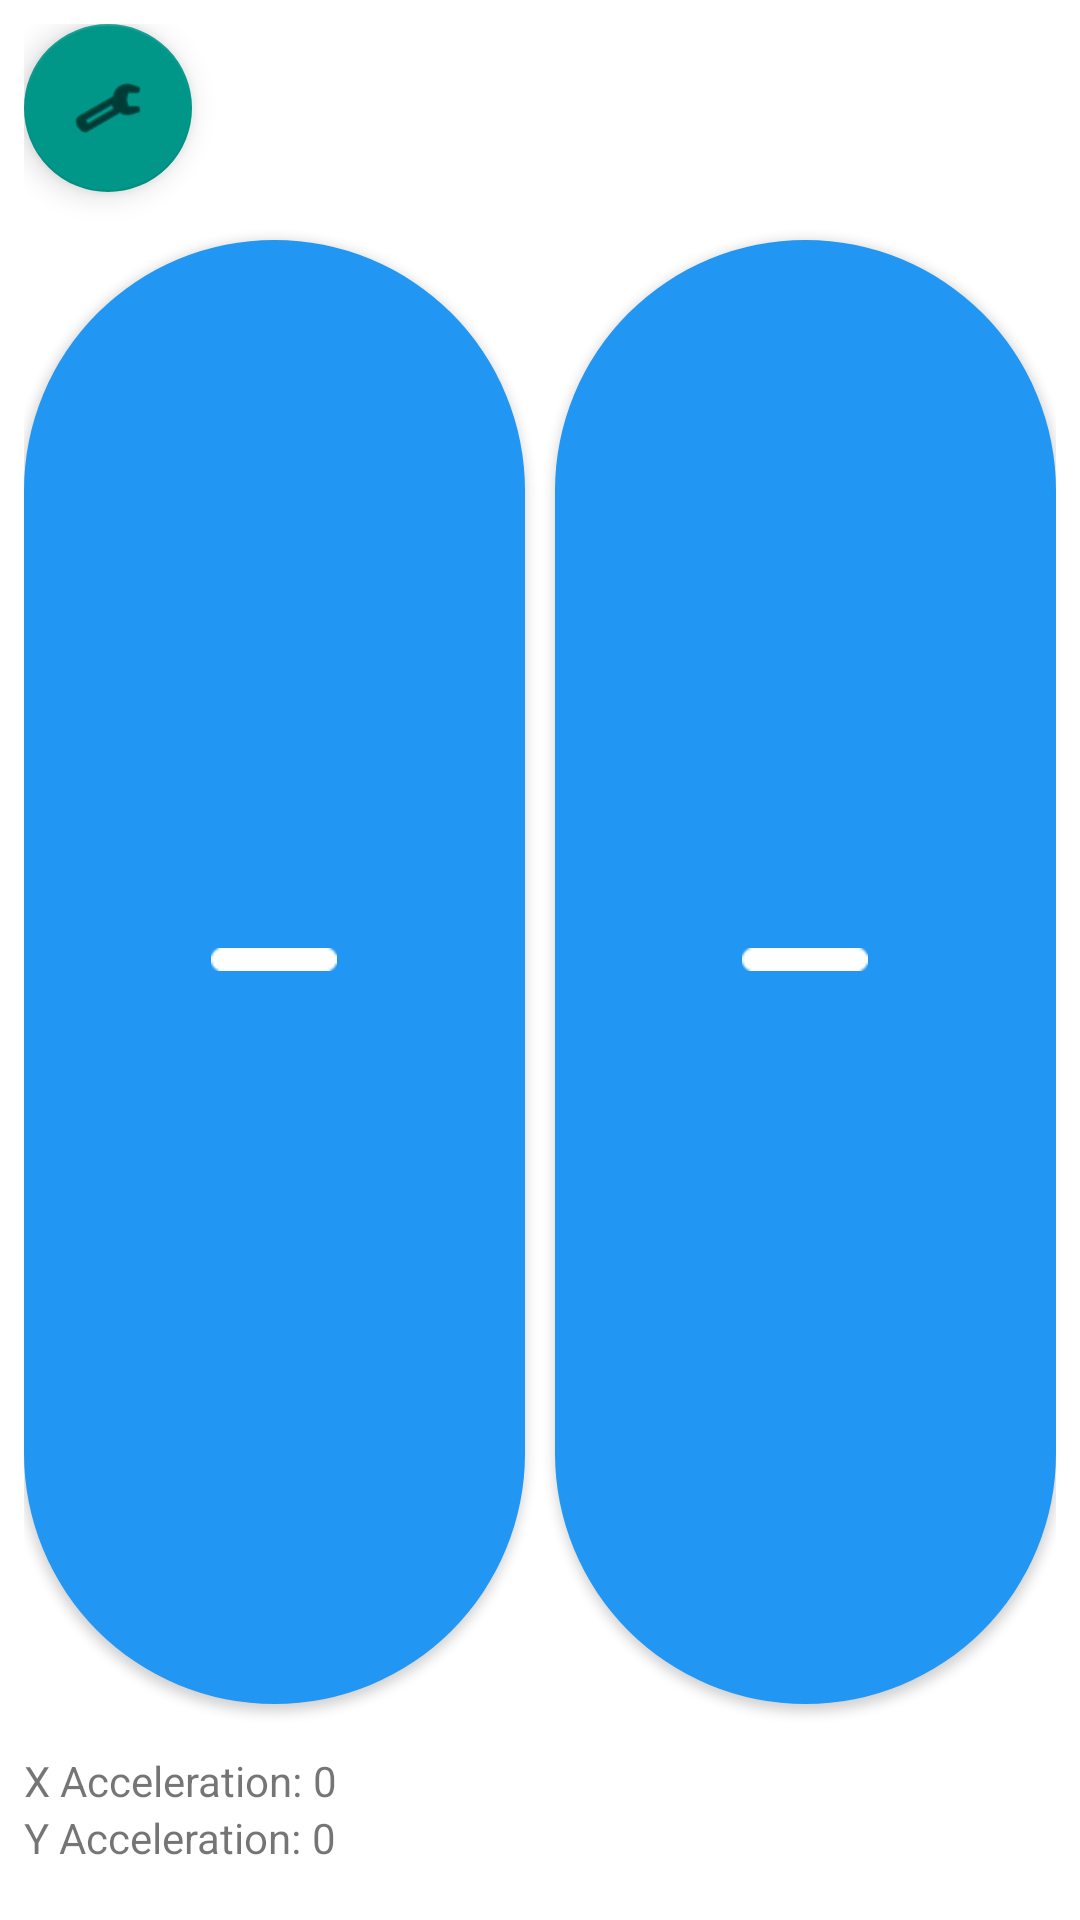

Named icons in this screenshot (1080 x 1920) and their centers, (x=x, y=y):
preferences: (x=108, y=108)
